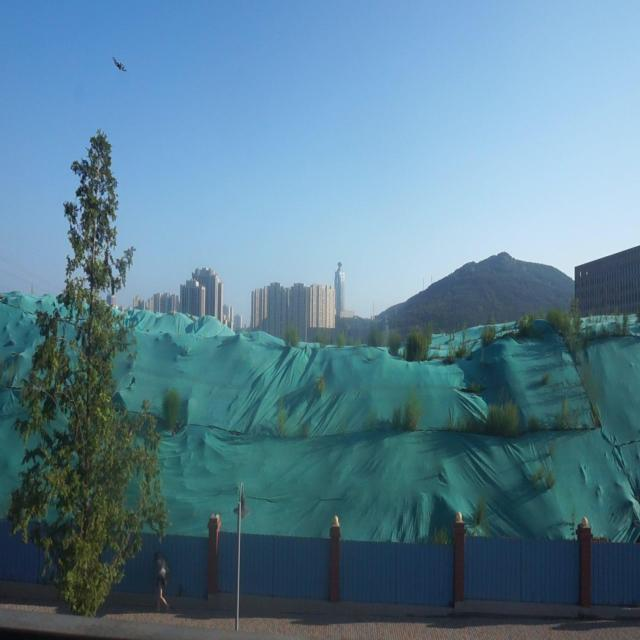UAV: (112, 56, 127, 72)
